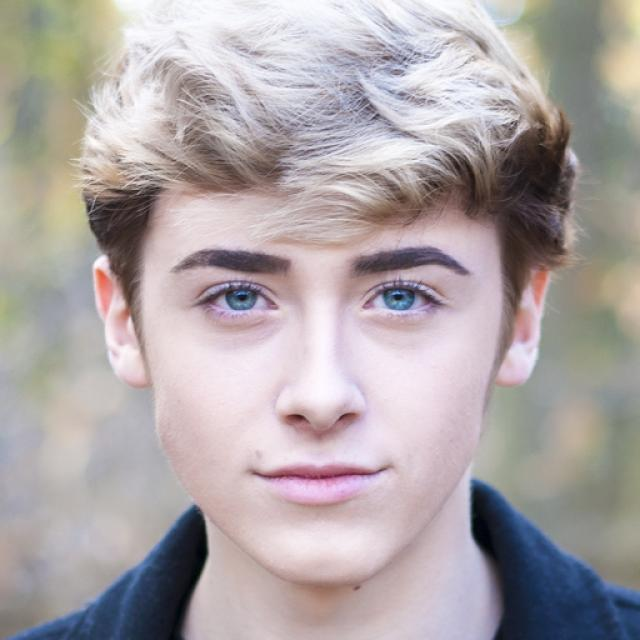content: (149, 138, 499, 582)
